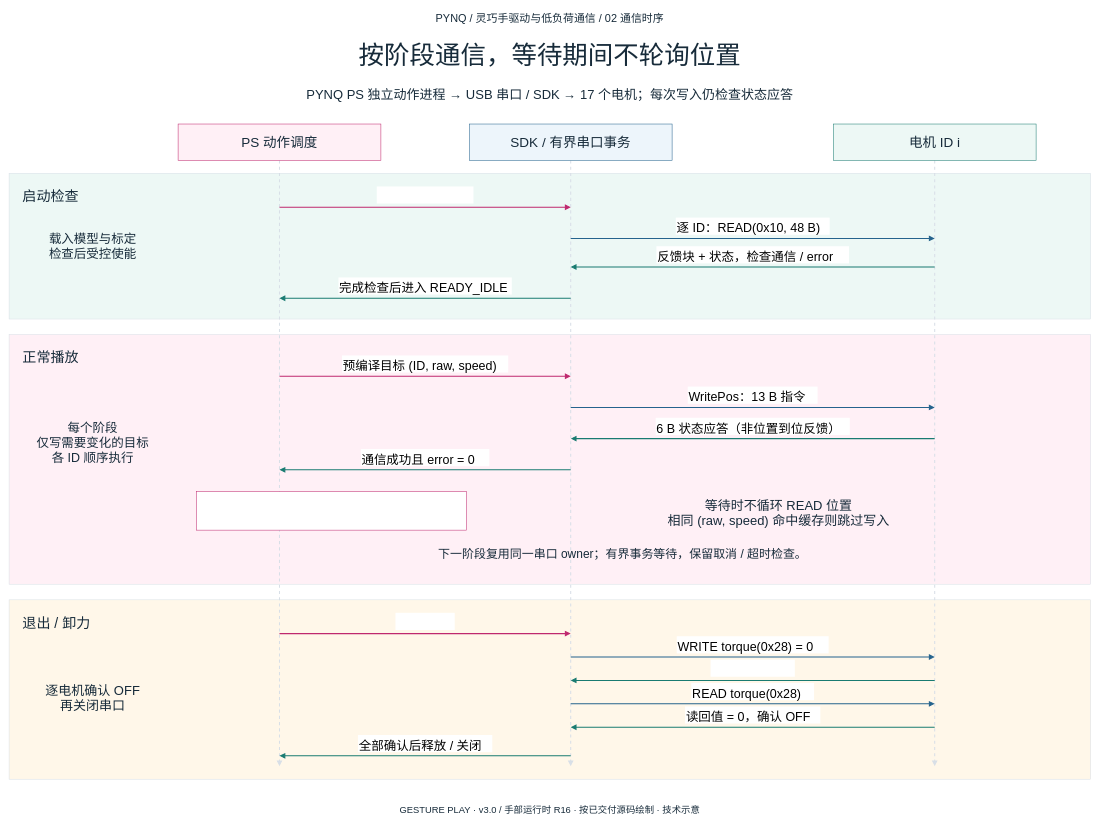
Image size: 1100x828. Some labels were removed from this diagram. The shapes that lost their labels are listed below. From the top down, each one's centre as x and y in pixels, then its label:
the point at 424,194: 连接并启动检查
the point at 331,510: Event.wait(阶段剩余时间)
the point at 424,621: 退出请求
the point at 752,668: 写入状态应答
